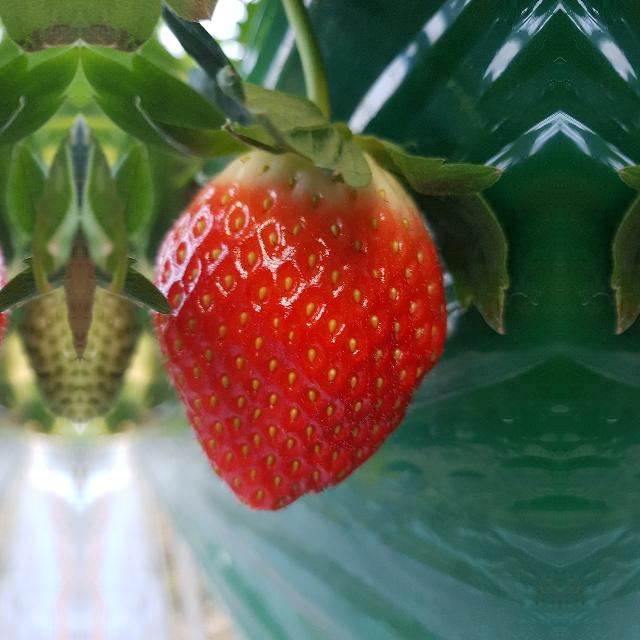Health_100: (148, 148, 448, 512)
